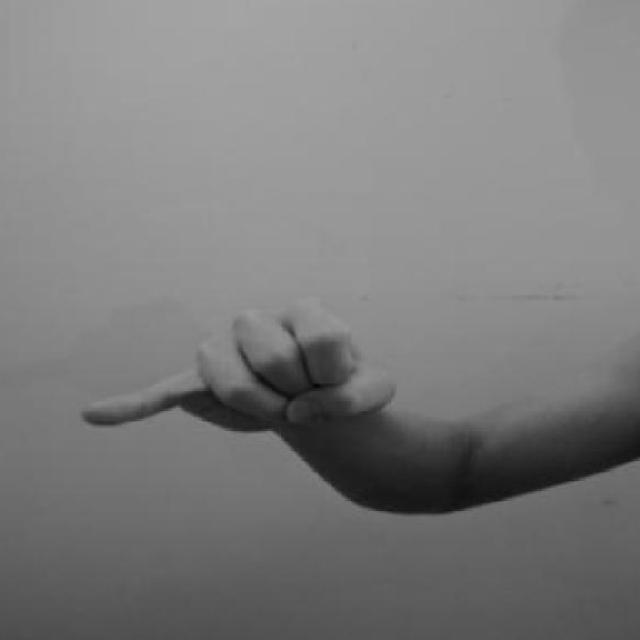J: (82, 293, 414, 445)
